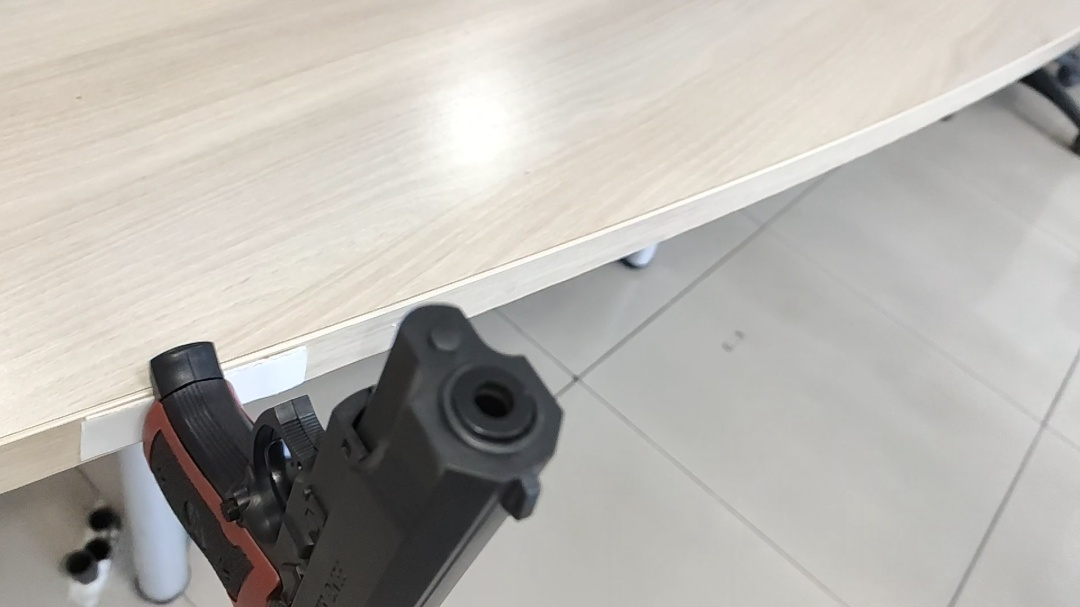gun: (139, 303, 563, 607)
